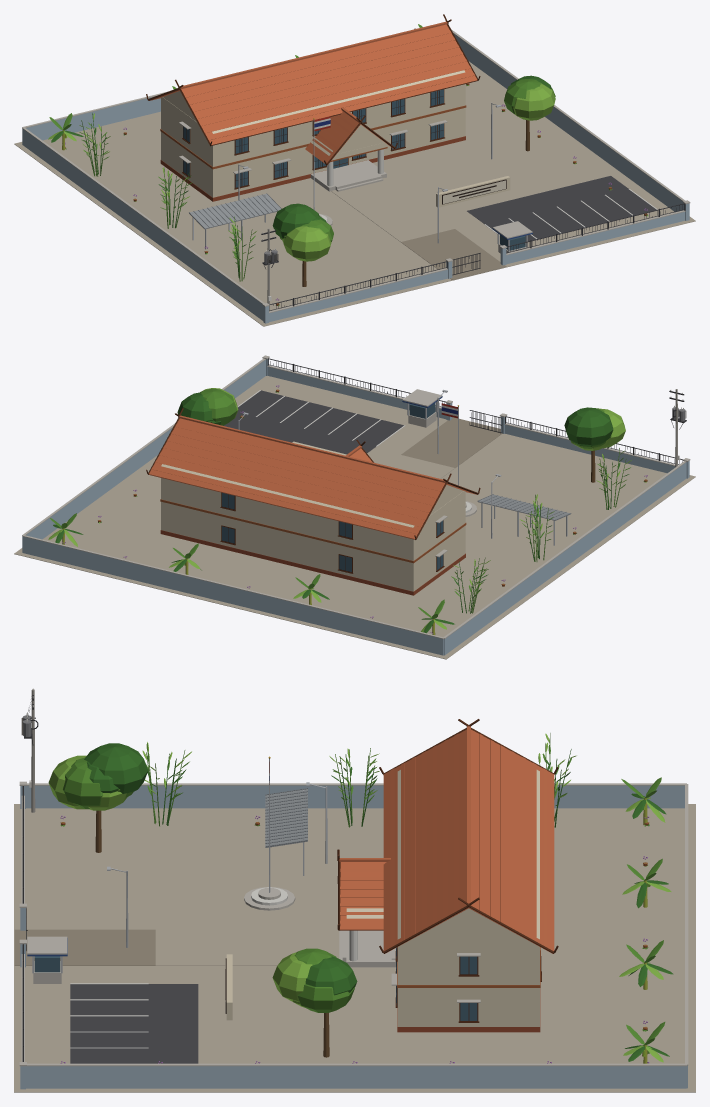
The model's file is police.glb.
3 renders of one model, top to bottom at view 1: azimuth 30°, elevation 25°; view 2: azimuth 150°, elevation 25°; view 3: azimuth 270°, elevation 25°, orthographic. The views are drawn at different scales.
Visible parts, largest first — view 1: body, windows; view 2: body, windows; view 3: body, windows.
Boxes of the visible parts, x1,y1,x2,y2 form: body: [14, 14, 695, 326]; windows: [183, 89, 525, 250]; body: [14, 355, 695, 659]; windows: [222, 403, 443, 571]; body: [14, 688, 695, 1092]; windows: [34, 947, 477, 1020].
Size of the model in its own units: 47.9 by 11.36 by 47.9.
